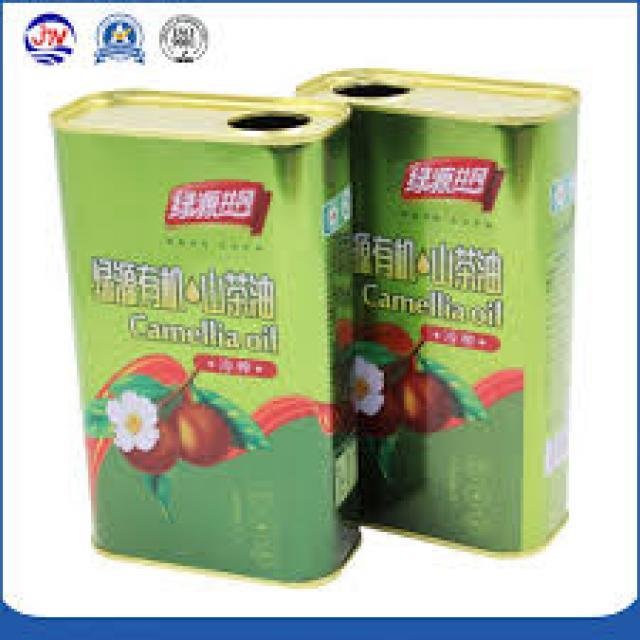recyclable: (46, 86, 364, 584), (292, 59, 580, 560)
